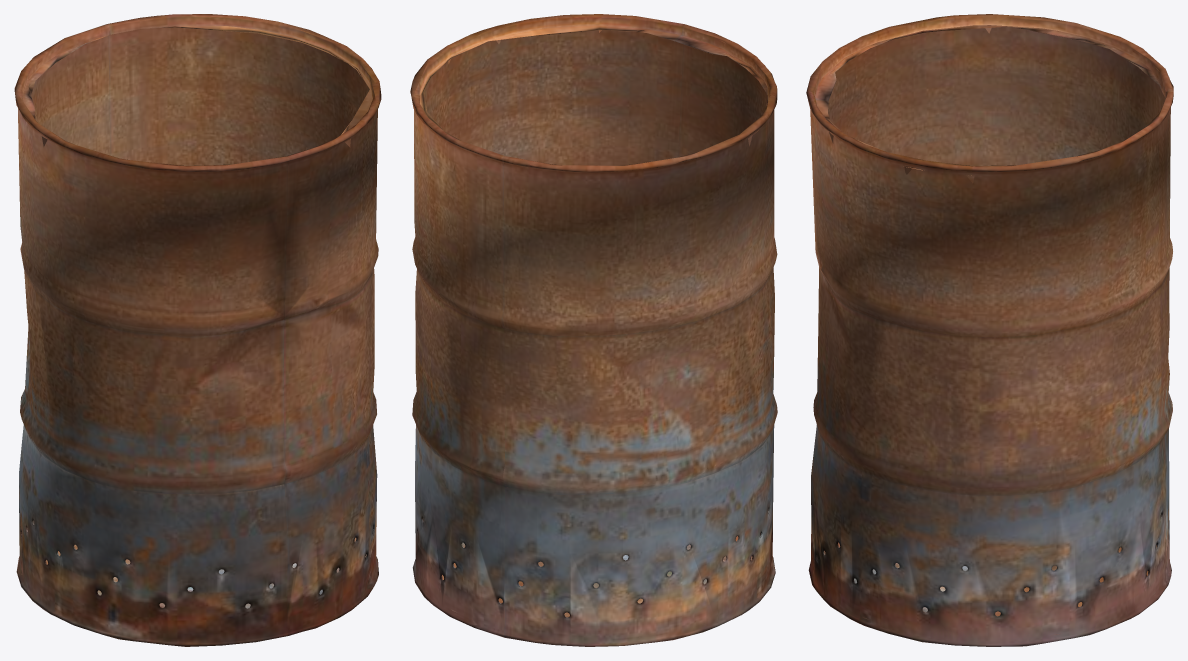
File: barrel_stove.gltf
3 renders of one model, left to right at view 1: azimuth 30°, elevation 25°; view 2: azimuth 150°, elevation 25°; view 3: azimuth 270°, elevation 25°, orthographic.
Visible parts, largest first — view 1: barrel_stove; view 2: barrel_stove; view 3: barrel_stove.
Boxes of the visible parts, box(x1,y1,x2,y2) form: barrel_stove: box(14, 14, 381, 646); barrel_stove: box(410, 14, 777, 646); barrel_stove: box(806, 14, 1173, 646).
Size of the model in its own units: 0.5901 by 0.8556 by 0.5914.
1 material, 1 textured.
